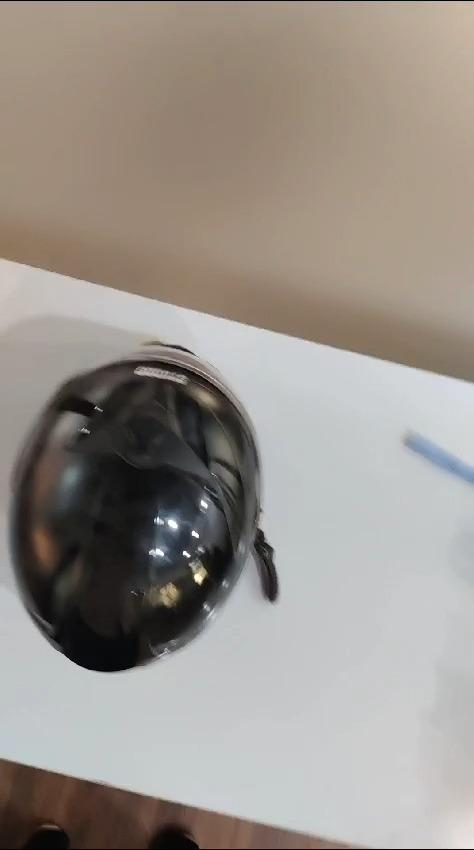Helmet: (14, 334, 269, 691)
